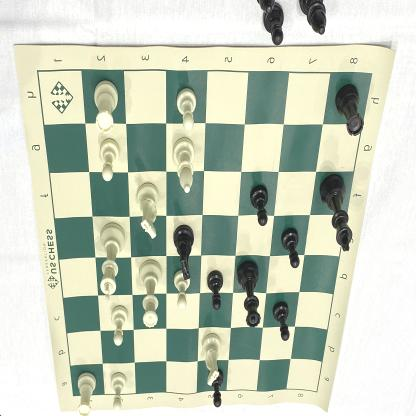black-king: (318, 170, 354, 256)
black-knight: (171, 224, 197, 281)
black-pawn: (248, 184, 271, 229), (280, 226, 302, 271), (272, 298, 292, 343), (205, 269, 225, 312), (210, 369, 225, 410)
black-queen: (236, 258, 262, 330)
black-rook: (333, 80, 365, 145)
white-bishop: (172, 137, 196, 197)
white-king: (96, 222, 127, 304)
white-knight: (135, 183, 161, 243), (201, 332, 223, 388)
white-pawn: (173, 87, 198, 133), (98, 138, 122, 183), (108, 304, 129, 348), (108, 372, 128, 414), (172, 270, 192, 312)
white-queen: (139, 257, 163, 332)
white-rook: (90, 78, 122, 136), (75, 371, 97, 416)
